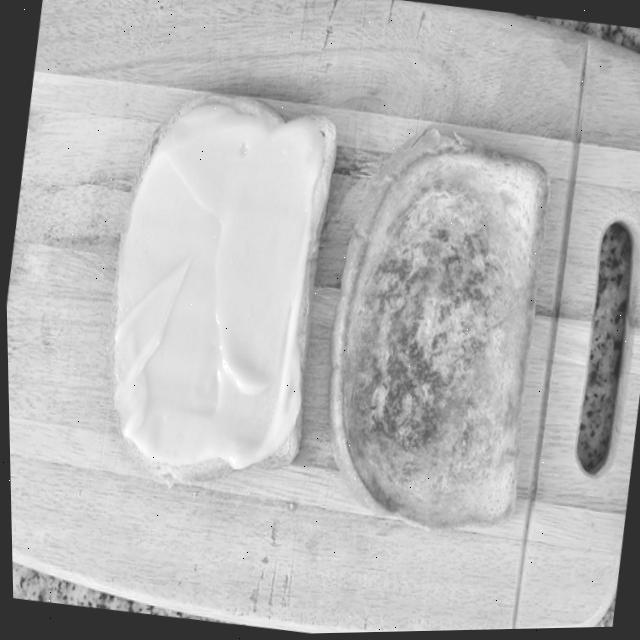面包点心: (25, 18, 636, 629)
